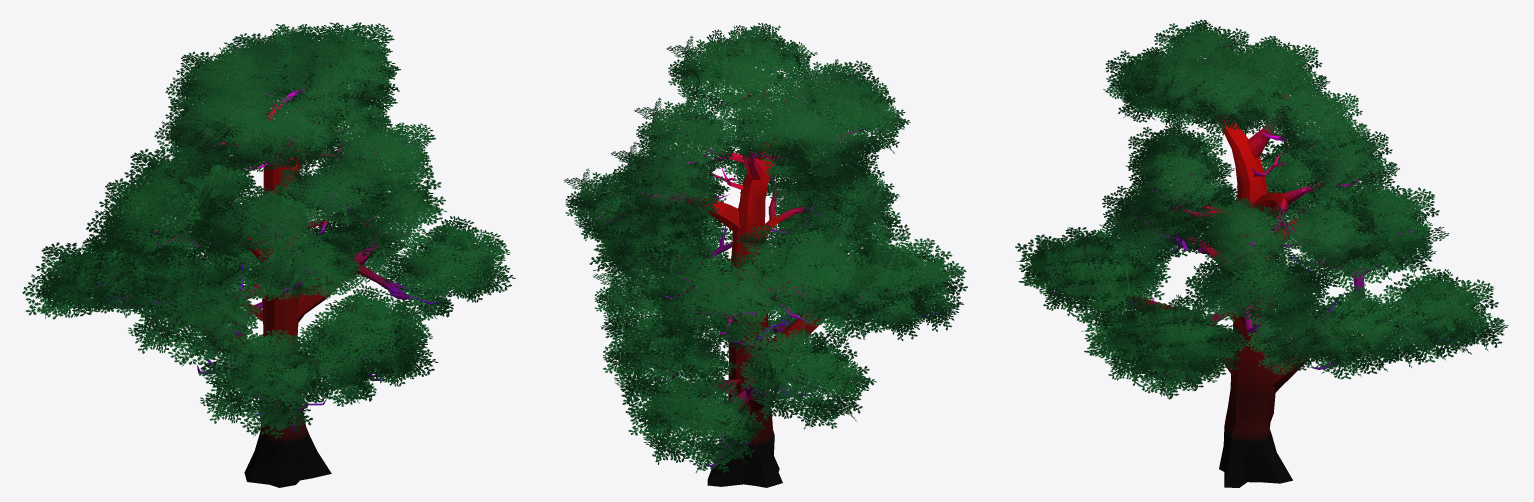
Rendered from PT_Oak_Tree_01_green.fbx.
3 renders of one model, left to right at view 1: azimuth 30°, elevation 25°; view 2: azimuth 150°, elevation 25°; view 3: azimuth 270°, elevation 25°, orthographic. The views are drawn at different scales.
Parts seen in each view (by area): view 1: PT_Oak_Tree_01_green_LOD0; view 2: PT_Oak_Tree_01_green_LOD0; view 3: PT_Oak_Tree_01_green_LOD0.
Part boxes in pixels (x1=…): PT_Oak_Tree_01_green_LOD0: x1=22, y1=22, x2=515, y2=487; PT_Oak_Tree_01_green_LOD0: x1=563, y1=23, x2=967, y2=487; PT_Oak_Tree_01_green_LOD0: x1=1015, y1=19, x2=1508, y2=487.
Size of what is drawn, in the model's own units: 1663 by 1809 by 1940.
